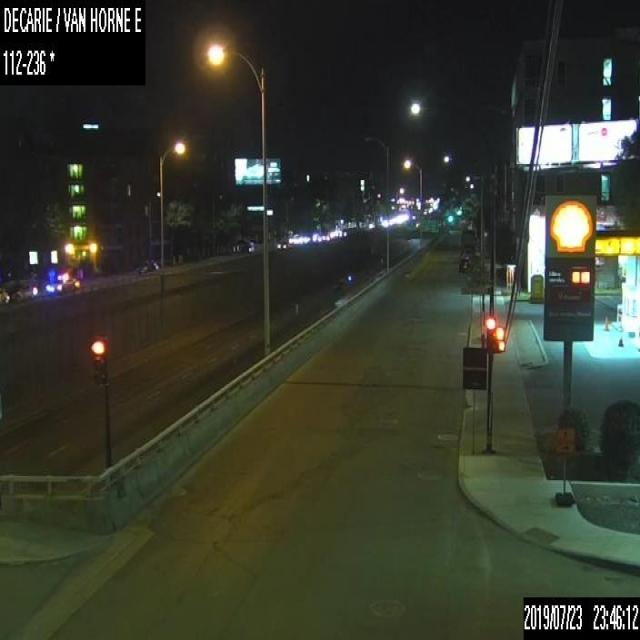construction: (552, 425, 574, 502), (617, 329, 623, 346), (602, 315, 608, 329)
vehicle: (45, 272, 79, 293), (11, 282, 37, 300), (134, 258, 158, 274), (458, 253, 472, 272), (234, 239, 254, 252), (333, 276, 347, 289), (0, 288, 9, 303), (276, 239, 289, 249)
